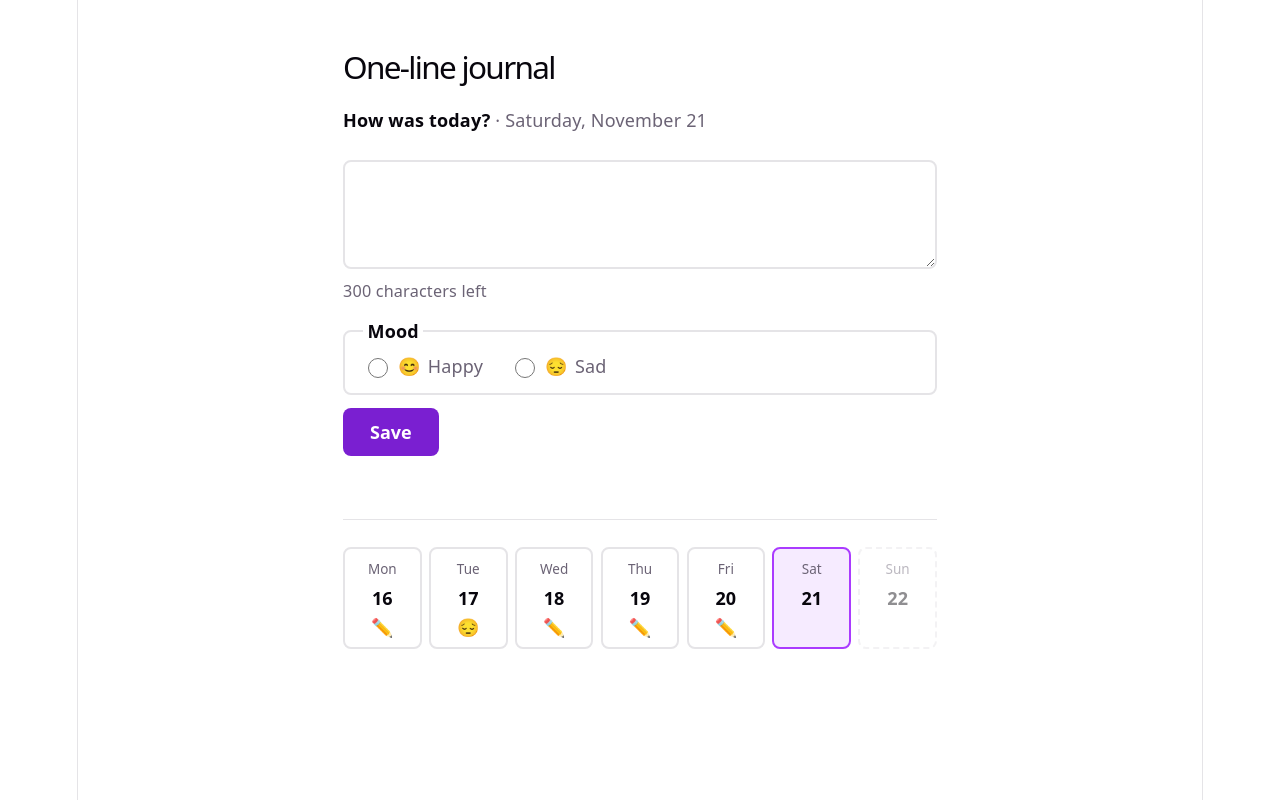
Scenario: week strip › choosing a day › clicking a written day prefills its entry for editing
Expected: the text box labelled "How was today? Saturday, November 21" is enabled, [343,160,937,270]
Step 1. Click the button with aria-label "Tuesday" → (468,598), box [429,547,508,649]
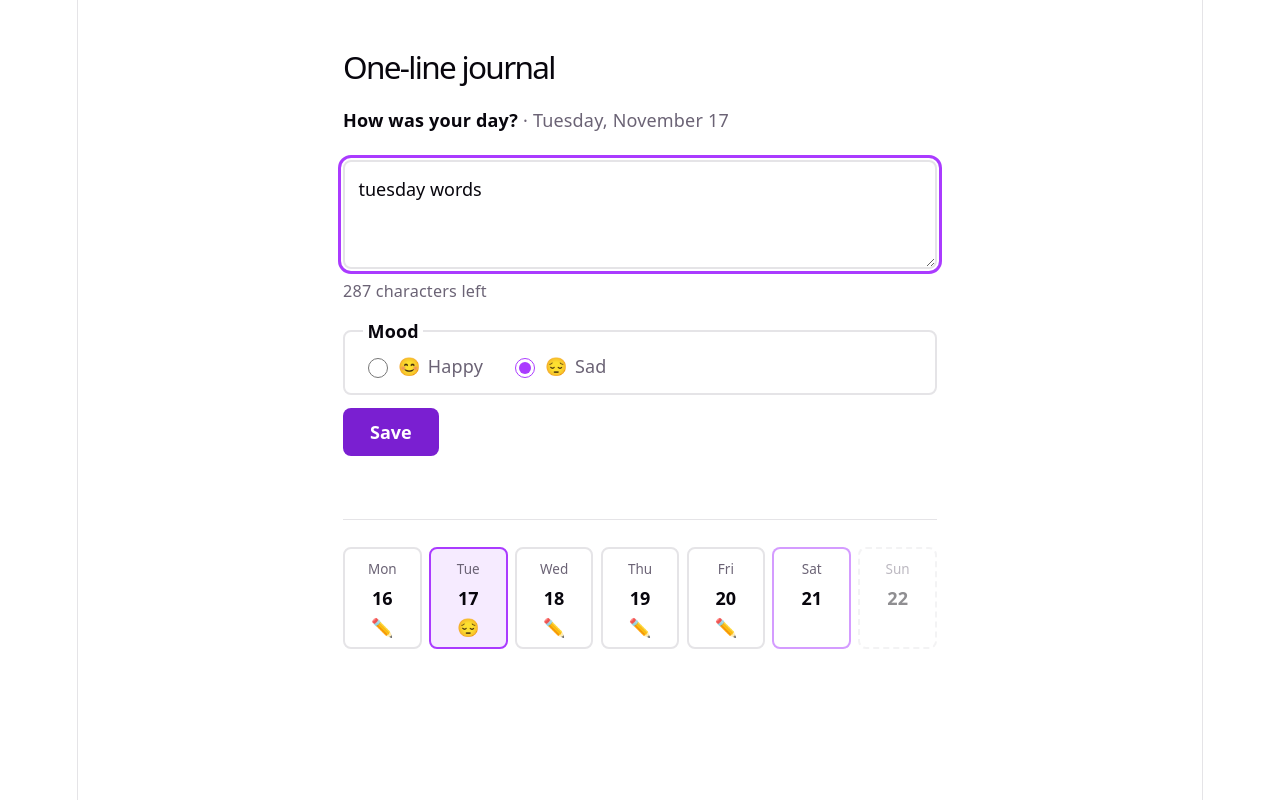
Expected: the text box named "how was today" holds "tuesday words", [343,160,937,270]
Expected: the radio button labelled "Sad" is checked, [515,358,535,378]
